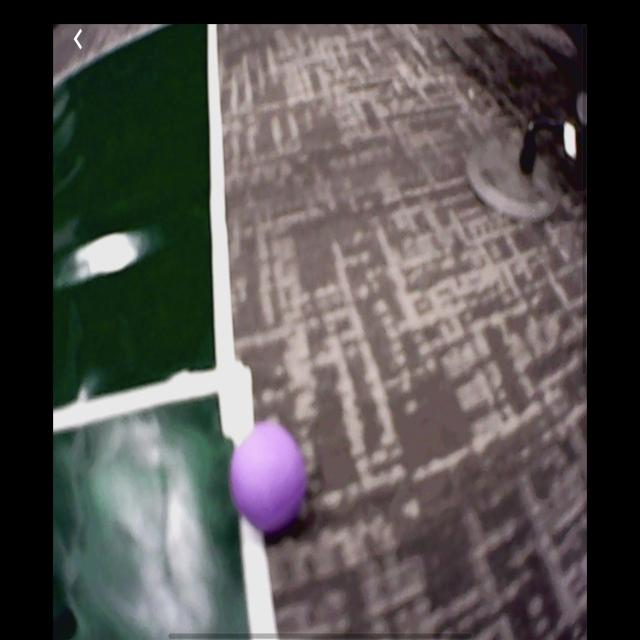ball: (228, 418, 308, 535)
